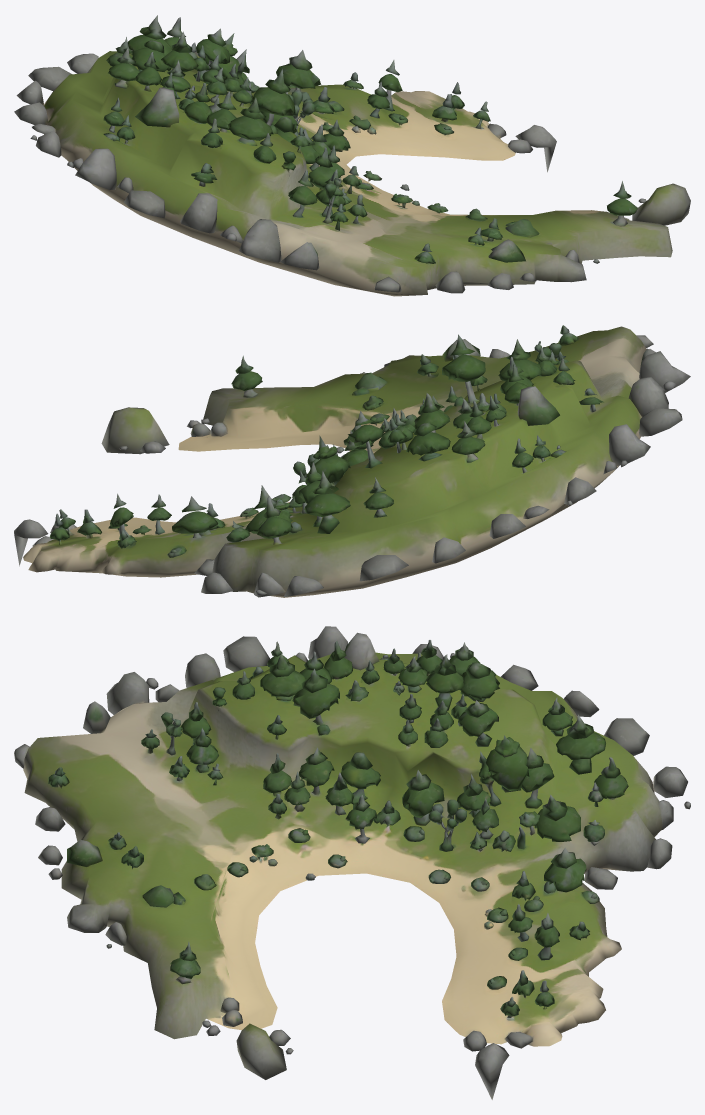
Rendered from isle_06_p1.glb.
3 views of the same model, one above another, from view 1: azimuth 30°, elevation 25°; view 2: azimuth 150°, elevation 25°; view 3: azimuth 270°, elevation 25° (orthographic).
Parts seen in each view (by area): view 1: tripo_node_4a806138-7df8-491d-af5f-9e9417daf1ee; view 2: tripo_node_4a806138-7df8-491d-af5f-9e9417daf1ee; view 3: tripo_node_4a806138-7df8-491d-af5f-9e9417daf1ee.
Boxes of the visible parts, x1,y1,x2,y2 form: tripo_node_4a806138-7df8-491d-af5f-9e9417daf1ee: (14,15,690,296); tripo_node_4a806138-7df8-491d-af5f-9e9417daf1ee: (14,325,690,597); tripo_node_4a806138-7df8-491d-af5f-9e9417daf1ee: (14,626,690,1099).
Bounding box in the file's own units: 0.998 × 0.4199 × 0.998.
1 material, 1 textured.
